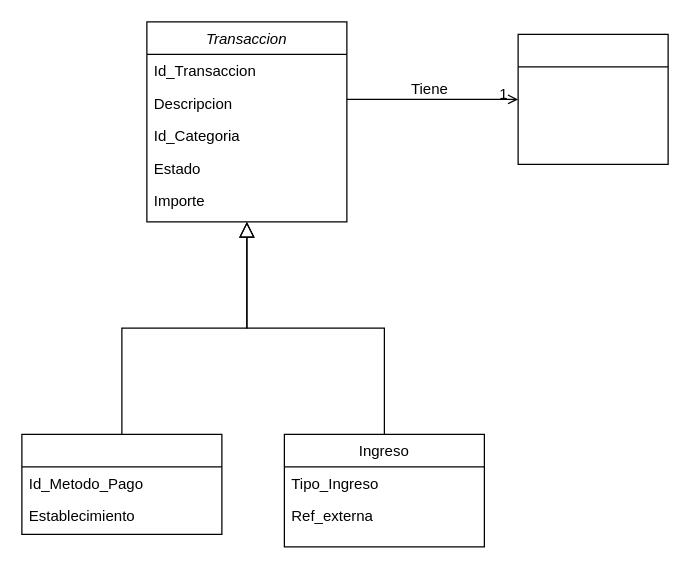
This 690x569 diagram has some shape labels left out. The shapes that lost their labels are listed below. From the top down, each one's box as (x1, y1, x2, y2) in pixels, then its label:
(517, 33, 668, 164): Fecha
(21, 433, 222, 534): Gasto
